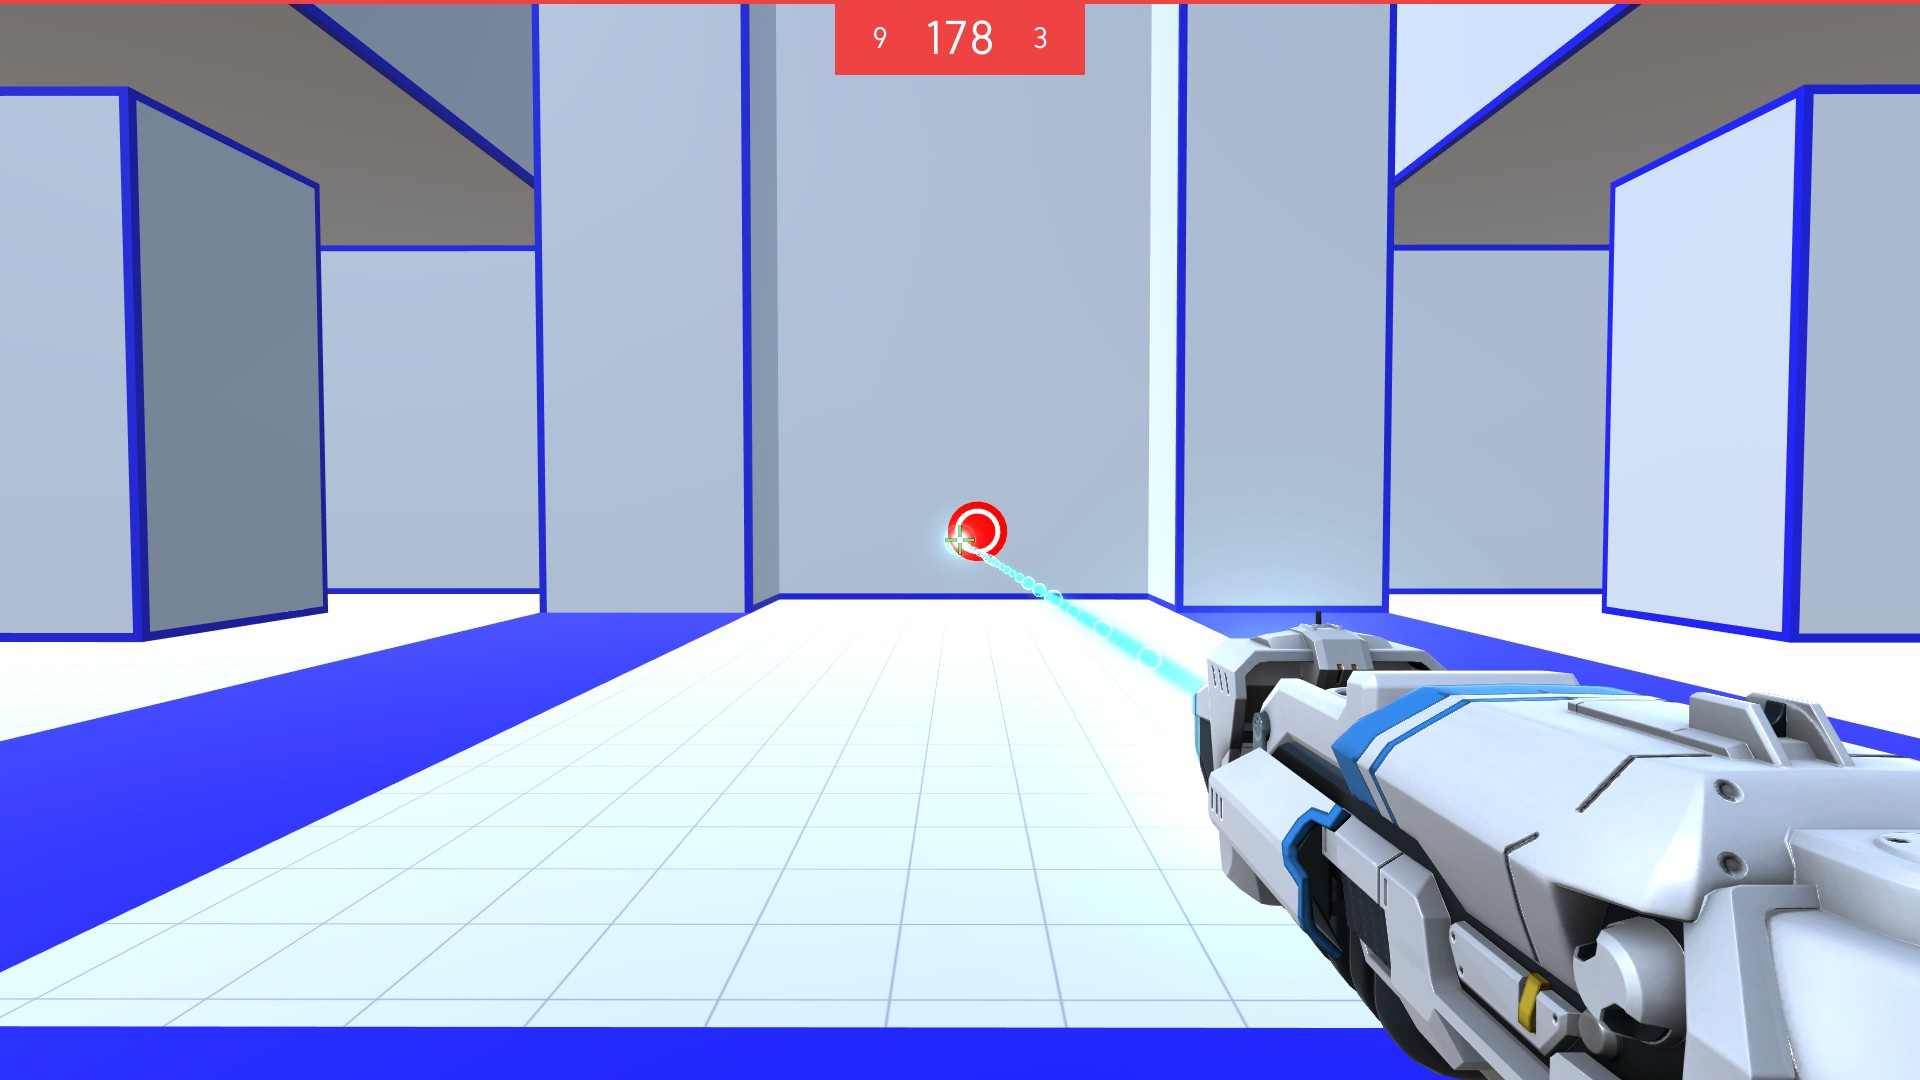target: (945, 501, 1011, 563)
